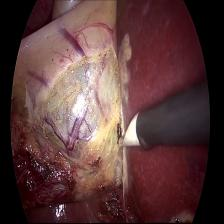Hook: (111, 105, 145, 156)
